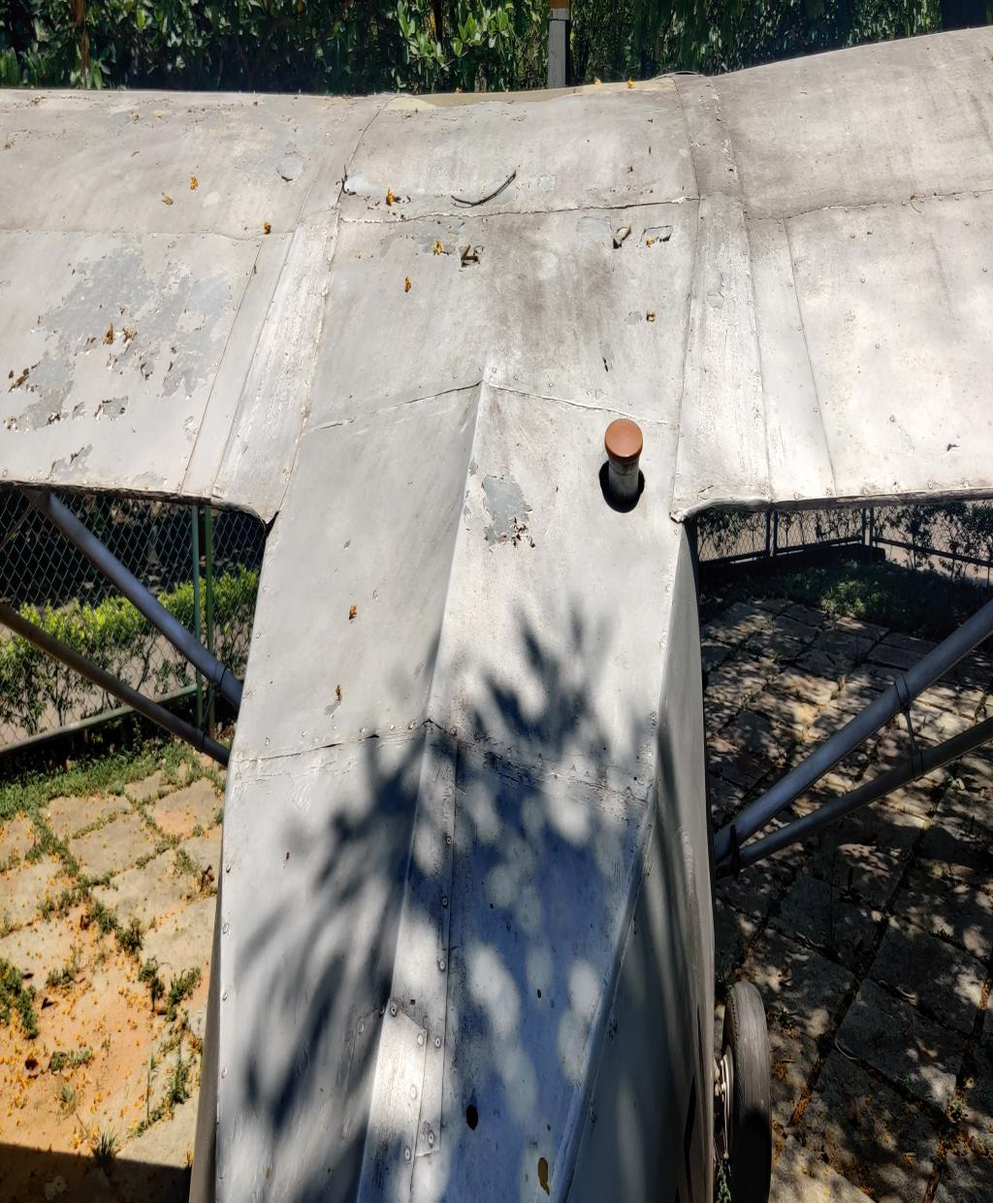corrosion: (383, 154, 463, 317), (160, 253, 228, 405), (474, 437, 532, 580), (107, 270, 169, 402), (95, 369, 134, 455)
